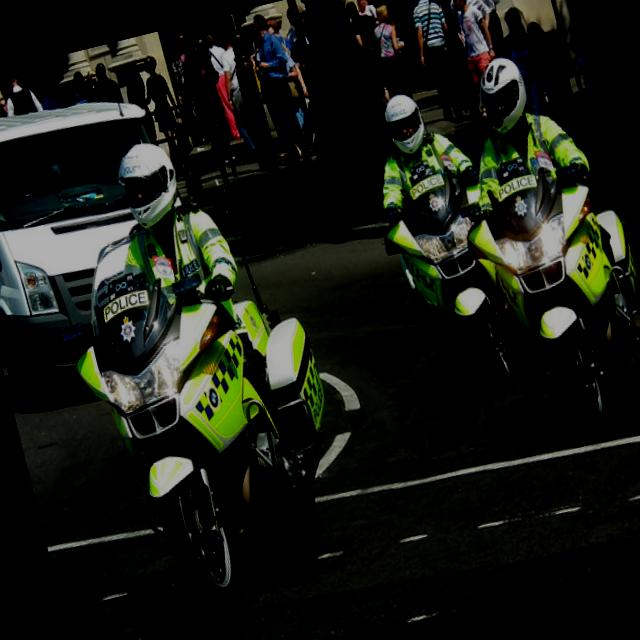Vehicle: (45, 188, 369, 625), (0, 75, 211, 414), (431, 111, 640, 453), (0, 83, 209, 413), (366, 144, 532, 408)
